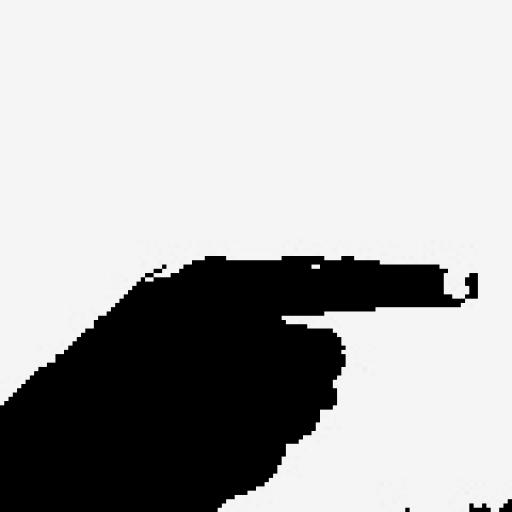index_left: (0, 253, 479, 453)
